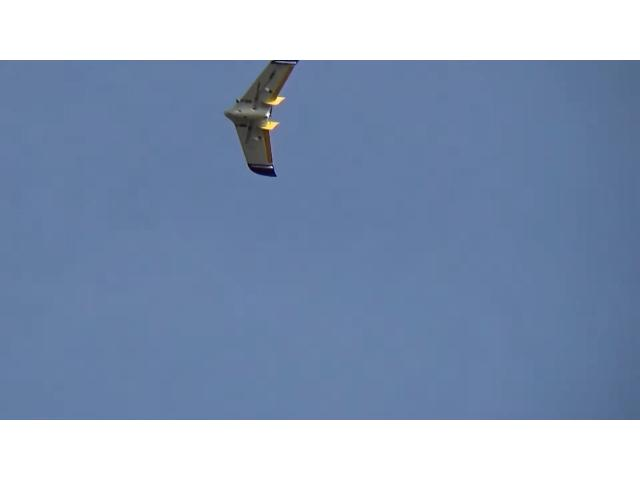Anti-Drone: (224, 60, 298, 178)
